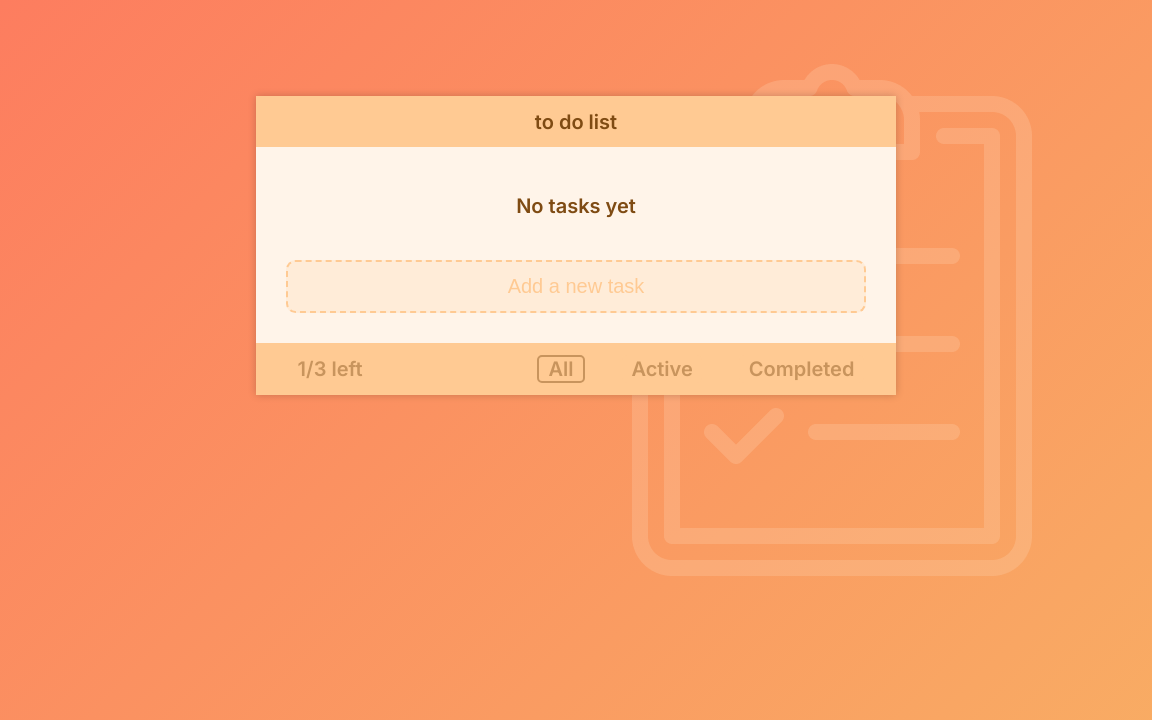
ToDo App › deletes a task from the list
Click the button "Add a new task".
click(576, 287)  # box [300, 274, 851, 299]
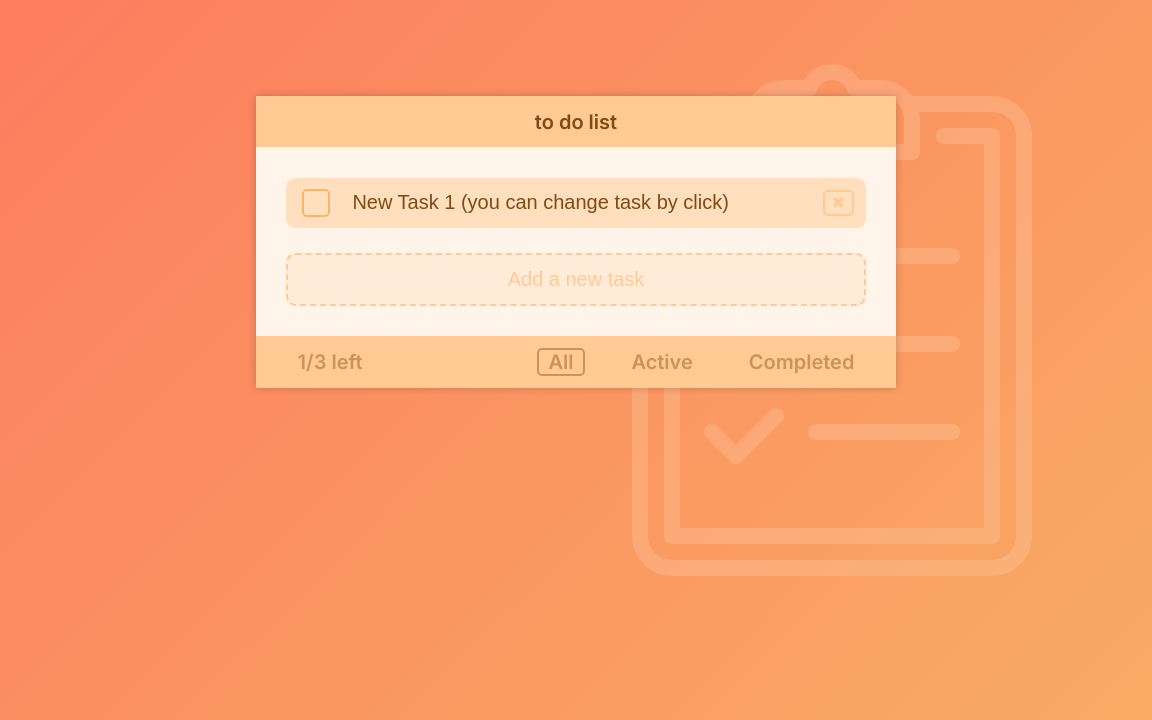
Click the button with class "taskDelete".
click(838, 203)  # box [823, 190, 853, 216]
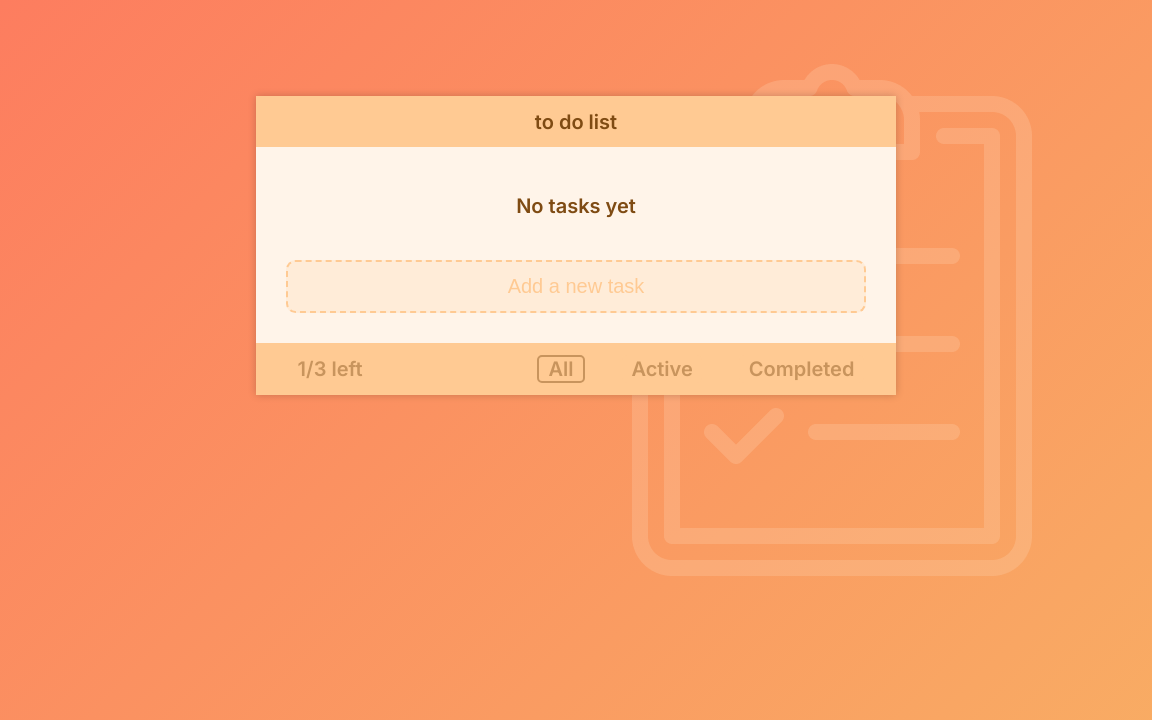
Expected: the heading "No tasks yet" is shown, [516, 194, 636, 218]
